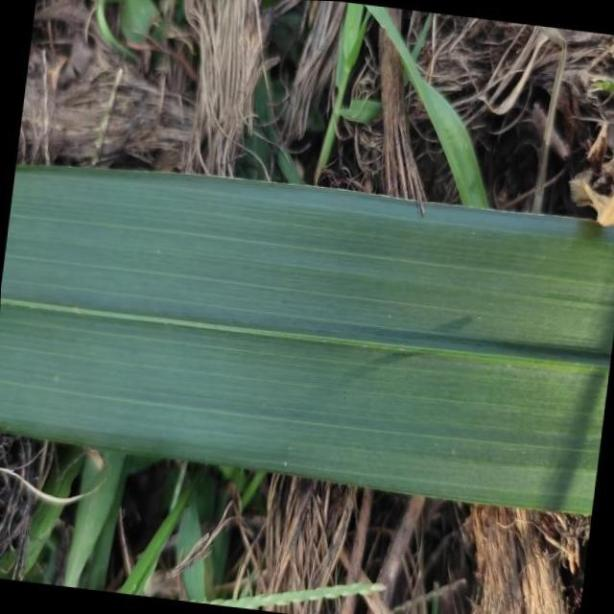Healthy: (3, 168, 614, 518)
